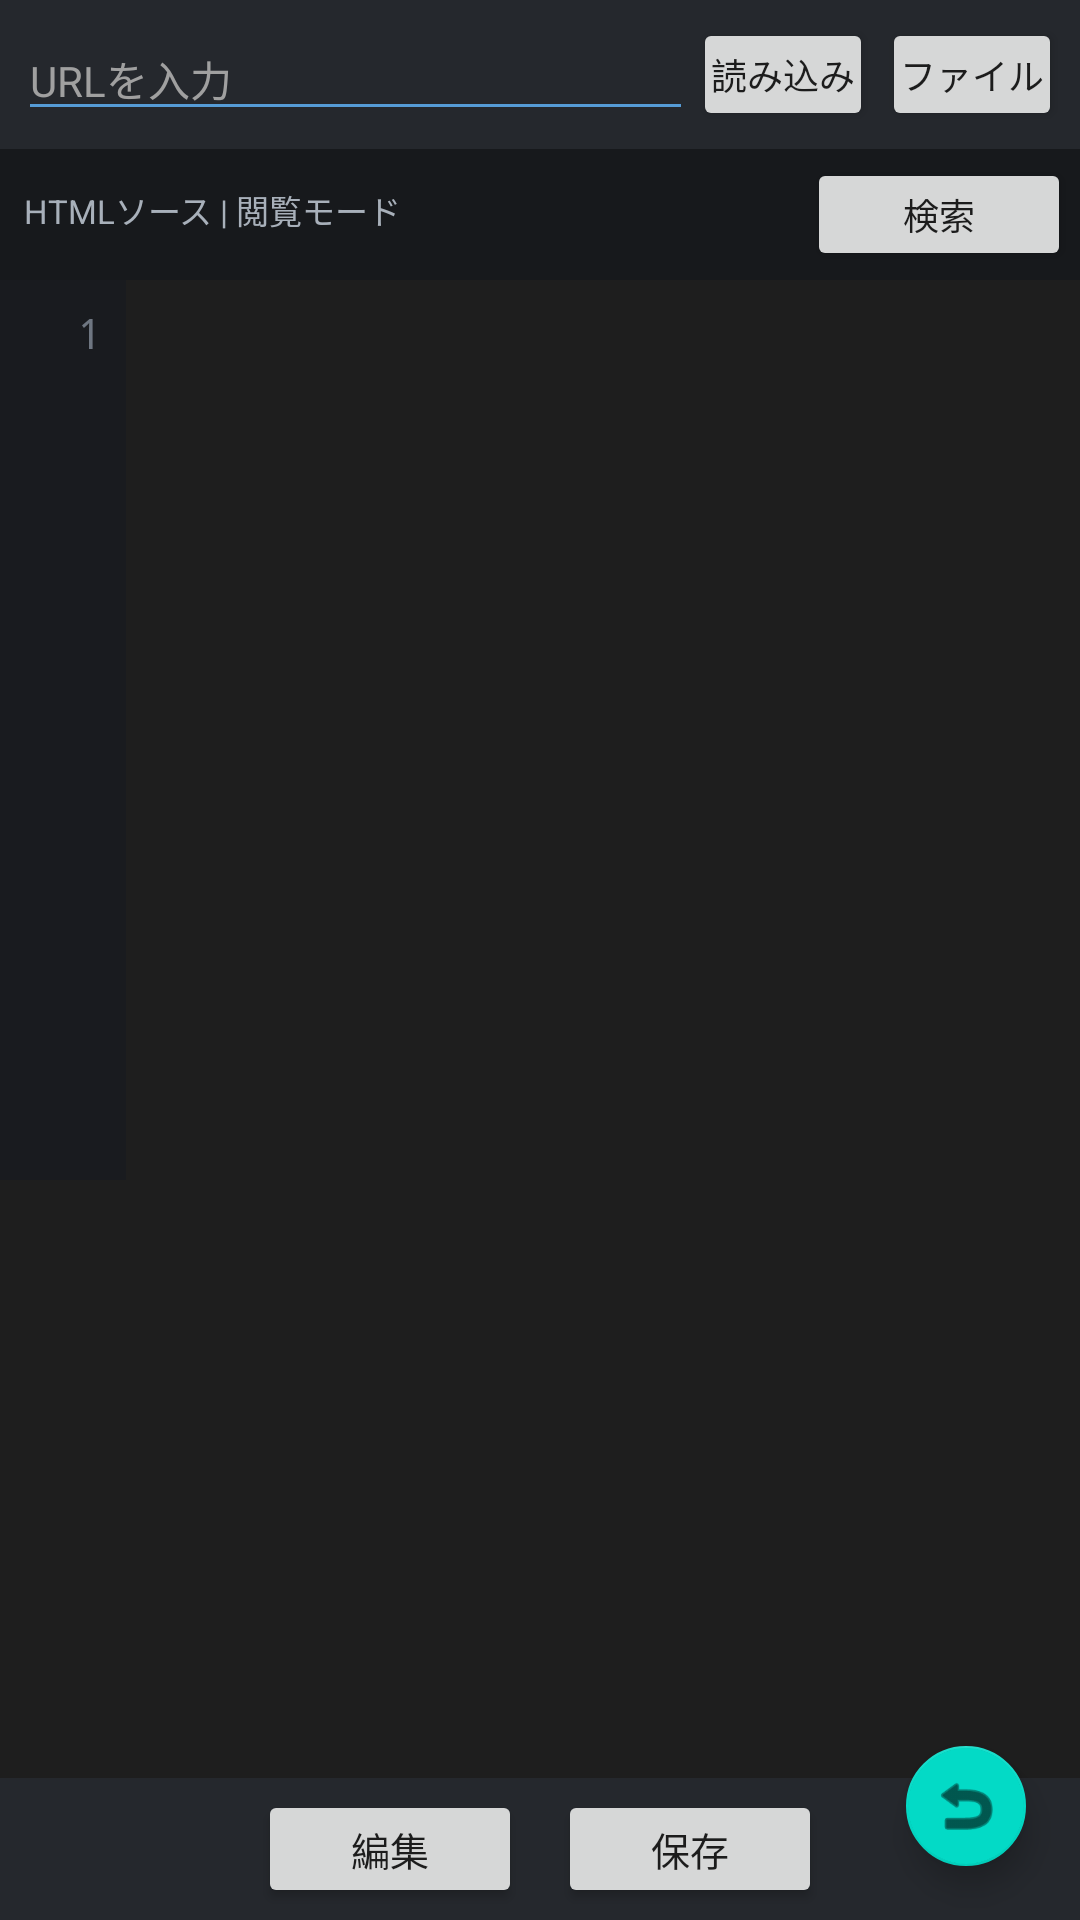

Screen size 1080*1920. Icon name, then its center in pixels as [x,y]:
元に戻す: [966,1806]
